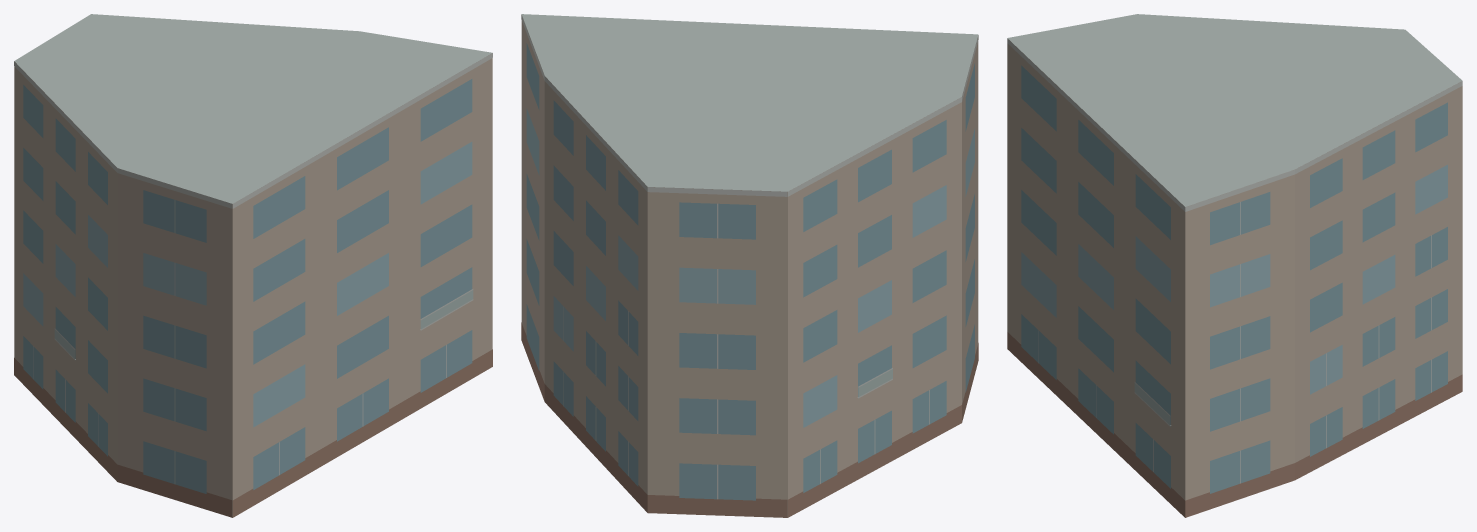
Rendered from residential-f3ed9f99-c465-4dfe-b3f8-8f9c34928881.glb.
The picture shows the model from 3 angles, left to right: view 1: azimuth 30°, elevation 25°; view 2: azimuth 150°, elevation 25°; view 3: azimuth 270°, elevation 25°; orthographic projection. The views are drawn at different scales.
Parts seen in each view (by area): view 1: residential-f3ed9f99-c465-4dfe-b3f8-8f9c34928881.tmp; view 2: residential-f3ed9f99-c465-4dfe-b3f8-8f9c34928881.tmp; view 3: residential-f3ed9f99-c465-4dfe-b3f8-8f9c34928881.tmp.
Part boxes in pixels (x1,y1,x2,y2): residential-f3ed9f99-c465-4dfe-b3f8-8f9c34928881.tmp: (14,14,492,517); residential-f3ed9f99-c465-4dfe-b3f8-8f9c34928881.tmp: (521,14,978,517); residential-f3ed9f99-c465-4dfe-b3f8-8f9c34928881.tmp: (1007,14,1462,517).
Bounding box in the file's own units: 20.32 × 15.25 × 20.26.
